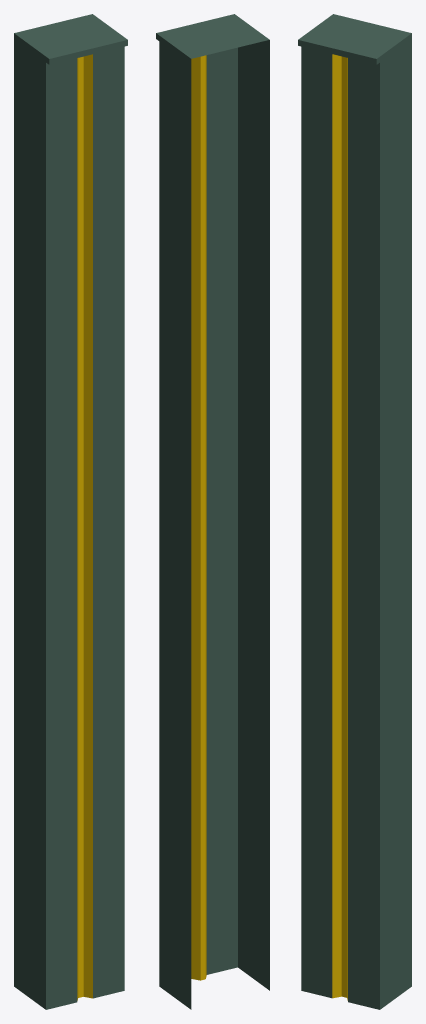
3 views of the same model, side by side, from view 1: azimuth 30°, elevation 25°; view 2: azimuth 210°, elevation 25°; view 3: azimuth 330°, elevation 25° (orthographic).
Visible parts, largest first — view 1: Column.054; view 2: Column.054; view 3: Column.054.
Part boxes in pixels (x1,y1,x2,y2): Column.054: (14, 14, 127, 1009); Column.054: (156, 14, 269, 1009); Column.054: (298, 14, 411, 1009).
Bounding box in the file's own units: 278 × 3225 × 217.
